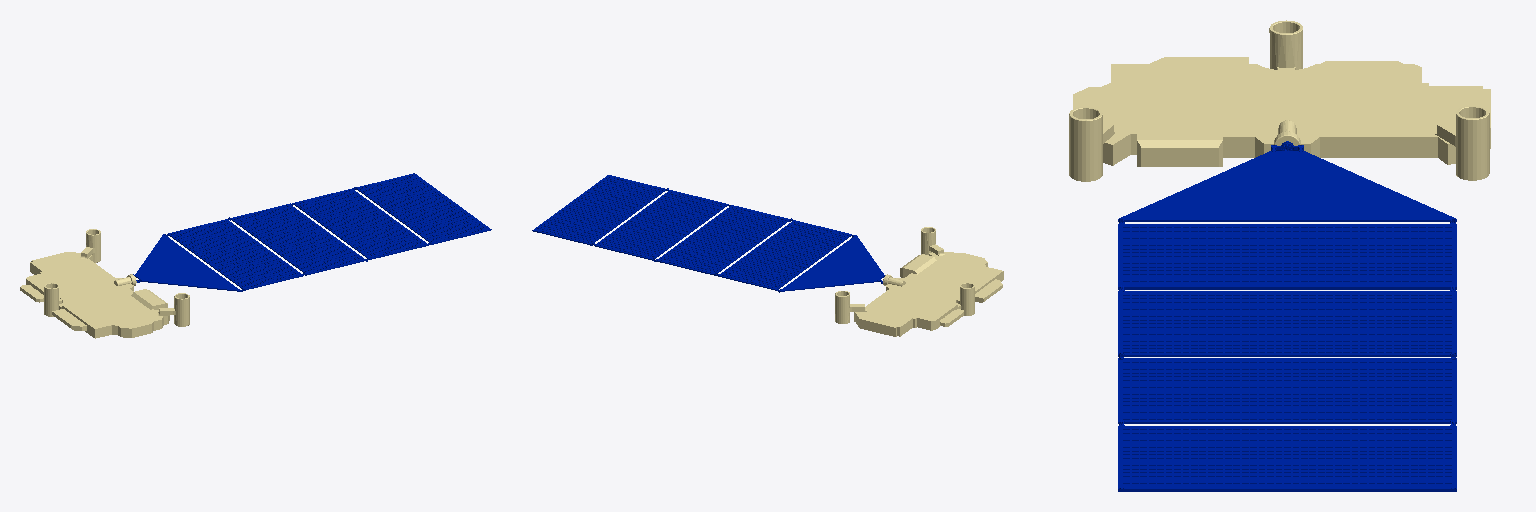
robot.urdf — starlink:
<?xml version="1.0" encoding="utf-8"?>
<!--
  starlink_new / starlink.urdf

  由两部分合并而成：
    1) 新的 base link  ——  来自 assets/urdf/cylinder/whole.urdf
       原 starlink 的 base_star_link 上有一段"圆筒"被拆下来做了精细建模，剩余部分
       保存在 cylinder/meshes/base_star_link_cut 下。whole.urdf 把这块重新拼成两个
       link，并用一个 fixed joint 连接：
         - base_star_body_link     ：body.stl + object.stl   （剩余主体）
         - base_star_cylinder_link ：cylinder_1~8.stl       （精细化的圆筒）
       这些 mesh 与原来的 base_star_link.STL 处于同一坐标系（原点一致），
       所以两个 link 的 mesh <origin> 都是 0，两个 link 之间也用 origin=0 的 fixed joint 连接。

    2) 原有的 panel  ——  来自 assets/urdf/starlink/urdf/starlink.urdf
       - panel_Link（panel_Link.STL），mass / 惯量 / fixed joint 的 origin 均保持原值；
       - 关节 "panel" 的 parent 由 base_star_link 改为 base_star_body_link，
         因为 base 被拆成了两个 link，panel 仍挂在主体上，origin 不变。

  颜色/材质与原 starlink 完全一致：
    - base   ：starlink_base_star_link_material  rgba=0.937255 0.894118 0.690196 1  texture=../textures/1.png
    - panel  ：starlink_panel_Link_material       rgba=0 0.172549 0.694118 1           texture=../textures/5.png

  惯量说明：
    - base_star_body_link 沿用原 base_star_link 的质心与惯量张量，mass 扣掉了圆筒的估算质量；
    - base_star_cylinder_link 用圆筒的包围盒/薄壁圆筒公式估算了质心、质量与惯量
      （圆筒相对整个 base 很小，约 1.5% 体积）。
    两者相加 ≈ 原 base_star_link（mass 365.27）。若需要按 mesh 重算，可在 Genesis 中
    使用 recompute_inertia=True。
-->
<robot name="starlink">

  <!-- ================== 新 base：主体 link（body + object） ================== -->
  <link name="base_star_body_link">
    <inertial>
      <origin xyz="0.064043 0.049818 0.075117" rpy="0 0 0"/>
      <mass value="359.77"/>
      <inertia ixx="166.05" ixy="0.9609" ixz="-0.9195"
               iyy="43.737" iyz="0.18316" izz="207.92"/>
    </inertial>

    <visual>
      <origin xyz="0 0 0" rpy="0 0 0"/>
      <geometry>
        <mesh filename="../meshes/body.stl" scale="1 1 1"/>
      </geometry>
      <material name="starlink_base_star_link_material">
        <color rgba="0.937255 0.894118 0.690196 1"/>
        <texture filename="../textures/1.png"/>
      </material>
    </visual>
    <visual>
      <origin xyz="0 0 0" rpy="0 0 0"/>
      <geometry>
        <mesh filename="../meshes/object.stl" scale="1 1 1"/>
      </geometry>
      <material name="starlink_base_star_link_material">
        <color rgba="0.937255 0.894118 0.690196 1"/>
        <texture filename="../textures/1.png"/>
      </material>
    </visual>

    <collision>
      <origin xyz="0 0 0" rpy="0 0 0"/>
      <geometry>
        <mesh filename="../meshes/body.stl" scale="1 1 1"/>
      </geometry>
    </collision>
    <collision>
      <origin xyz="0 0 0" rpy="0 0 0"/>
      <geometry>
        <mesh filename="../meshes/object.stl" scale="1 1 1"/>
      </geometry>
    </collision>
  </link>

  <!-- ================== 新 base：圆筒 link（cylinder_1~8） ================== -->
  <link name="base_star_cylinder_link">
    <inertial>
      <origin xyz="-0.5607 0.1215 0.1535" rpy="0 0 0"/>
      <mass value="5.50"/>
      <inertia ixx="0.0938" ixy="0.0" ixz="0.0"
               iyy="0.0938" iyz="0.0" izz="0.0410"/>
    </inertial>

    <visual>
      <origin xyz="0 0 0" rpy="0 0 0"/>
      <geometry>
        <mesh filename="../meshes/cylinder_1.stl" scale="1 1 1"/>
      </geometry>
      <material name="starlink_base_star_link_material">
        <color rgba="0.937255 0.894118 0.690196 1"/>
        <texture filename="../textures/1.png"/>
      </material>
    </visual>
    <visual>
      <origin xyz="0 0 0" rpy="0 0 0"/>
      <geometry>
        <mesh filename="../meshes/cylinder_2.stl" scale="1 1 1"/>
      </geometry>
      <material name="starlink_base_star_link_material">
        <color rgba="0.937255 0.894118 0.690196 1"/>
        <texture filename="../textures/1.png"/>
      </material>
    </visual>
    <visual>
      <origin xyz="0 0 0" rpy="0 0 0"/>
      <geometry>
        <mesh filename="../meshes/cylinder_3.stl" scale="1 1 1"/>
      </geometry>
      <material name="starlink_base_star_link_material">
        <color rgba="0.937255 0.894118 0.690196 1"/>
        <texture filename="../textures/1.png"/>
      </material>
    </visual>
    <visual>
      <origin xyz="0 0 0" rpy="0 0 0"/>
      <geometry>
        <mesh filename="../meshes/cylinder_4.stl" scale="1 1 1"/>
      </geometry>
      <material name="starlink_base_star_link_material">
        <color rgba="0.937255 0.894118 0.690196 1"/>
        <texture filename="../textures/1.png"/>
      </material>
    </visual>
    <visual>
      <origin xyz="0 0 0" rpy="0 0 0"/>
      <geometry>
        <mesh filename="../meshes/cylinder_5.stl" scale="1 1 1"/>
      </geometry>
      <material name="starlink_base_star_link_material">
        <color rgba="0.937255 0.894118 0.690196 1"/>
        <texture filename="../textures/1.png"/>
      </material>
    </visual>
    <visual>
      <origin xyz="0 0 0" rpy="0 0 0"/>
      <geometry>
        <mesh filename="../meshes/cylinder_6.stl" scale="1 1 1"/>
      </geometry>
      <material name="starlink_base_star_link_material">
        <color rgba="0.937255 0.894118 0.690196 1"/>
        <texture filename="../textures/1.png"/>
      </material>
    </visual>
    <visual>
      <origin xyz="0 0 0" rpy="0 0 0"/>
      <geometry>
        <mesh filename="../meshes/cylinder_7.stl" scale="1 1 1"/>
      </geometry>
      <material name="starlink_base_star_link_material">
        <color rgba="0.937255 0.894118 0.690196 1"/>
        <texture filename="../textures/1.png"/>
      </material>
    </visual>
    <visual>
      <origin xyz="0 0 0" rpy="0 0 0"/>
      <geometry>
        <mesh filename="../meshes/cylinder_8.stl" scale="1 1 1"/>
      </geometry>
      <material name="starlink_base_star_link_material">
        <color rgba="0.937255 0.894118 0.690196 1"/>
        <texture filename="../textures/1.png"/>
      </material>
    </visual>

    <collision>
      <origin xyz="0 0 0" rpy="0 0 0"/>
      <geometry>
        <mesh filename="../meshes/cylinder_1.stl" scale="1 1 1"/>
      </geometry>
    </collision>
    <collision>
      <origin xyz="0 0 0" rpy="0 0 0"/>
      <geometry>
        <mesh filename="../meshes/cylinder_2.stl" scale="1 1 1"/>
      </geometry>
    </collision>
    <collision>
      <origin xyz="0 0 0" rpy="0 0 0"/>
      <geometry>
        <mesh filename="../meshes/cylinder_3.stl" scale="1 1 1"/>
      </geometry>
    </collision>
    <collision>
      <origin xyz="0 0 0" rpy="0 0 0"/>
      <geometry>
        <mesh filename="../meshes/cylinder_4.stl" scale="1 1 1"/>
      </geometry>
    </collision>
    <collision>
      <origin xyz="0 0 0" rpy="0 0 0"/>
      <geometry>
        <mesh filename="../meshes/cylinder_5.stl" scale="1 1 1"/>
      </geometry>
    </collision>
    <collision>
      <origin xyz="0 0 0" rpy="0 0 0"/>
      <geometry>
        <mesh filename="../meshes/cylinder_6.stl" scale="1 1 1"/>
      </geometry>
    </collision>
    <collision>
      <origin xyz="0 0 0" rpy="0 0 0"/>
      <geometry>
        <mesh filename="../meshes/cylinder_7.stl" scale="1 1 1"/>
      </geometry>
    </collision>
    <collision>
      <origin xyz="0 0 0" rpy="0 0 0"/>
      <geometry>
        <mesh filename="../meshes/cylinder_8.stl" scale="1 1 1"/>
      </geometry>
    </collision>
  </link>

  <!-- ===== 固定关节：把圆筒 link 拼回主体 link ===== -->
  <joint name="base_body_to_cylinder" type="fixed">
    <origin xyz="0 0 0" rpy="0 0 0"/>
    <parent link="base_star_body_link"/>
    <child link="base_star_cylinder_link"/>
  </joint>

  <!-- ================== 原 panel link（配置与原 starlink 完全一致） ================== -->
  <link name="panel_Link">
    <inertial>
      <origin xyz="0.18387 4.5116E-05 0.0089121" rpy="0 0 0"/>
      <mass value="146.07"/>
      <inertia ixx="45.09" ixy="7.5802E-12" ixz="-2.6455E-06"
               iyy="9.2979" iyz="-4.89E-13" izz="54.377"/>
    </inertial>

    <visual>
      <origin xyz="0 0 0" rpy="0 0 0"/>
      <geometry>
        <mesh filename="../meshes/panel_Link.STL"/>
      </geometry>
      <material name="starlink_panel_Link_material">
        <color rgba="0 0.172549 0.694118 1"/>
        <texture filename="../textures/5.png"/>
      </material>
    </visual>

    <collision>
      <origin xyz="0 0 0" rpy="0 0 0"/>
      <geometry>
        <mesh filename="../meshes/panel_Link.STL"/>
      </geometry>
    </collision>
  </link>

  <!-- ===== panel 关节：origin 与原 starlink 相同，parent 换到新的主体 link ===== -->
  <joint name="panel" type="fixed">
    <origin xyz="3.1501 0.12613 0.143" rpy="0 0 0"/>
    <parent link="base_star_body_link"/>
    <child link="panel_Link"/>
    <axis xyz="0 0 0"/>
  </joint>

</robot>

--- What the picture shows (computed from the rendered views, not written in the file) ---
3 views of the same robot in one strip: view 1: azimuth 30°, elevation 25°; view 2: azimuth 150°, elevation 25°; view 3: azimuth 270°, elevation 25° (orthographic).
Model starlink with 3 links and 2 joints (2 fixed), rooted at base_star_body_link, posed all joints at 0.
Visible links, largest first — view 1: panel_Link, base_star_body_link; view 2: panel_Link, base_star_body_link; view 3: panel_Link, base_star_body_link, base_star_cylinder_link.
Link boxes in pixels (x1,y1,x2,y2): panel_Link: (133,173,491,291); base_star_body_link: (20,229,189,338); panel_Link: (532,175,884,292); base_star_body_link: (835,227,1003,336); panel_Link: (1118,141,1456,491); base_star_body_link: (1069,57,1490,181); base_star_cylinder_link: (1269,20,1302,69).
Bounding box of the posed robot: 6.16 × 2.49 × 0.4335 m (x, y, z).
11 mesh visuals loaded from 11 distinct referenced files (11 binary STL).
